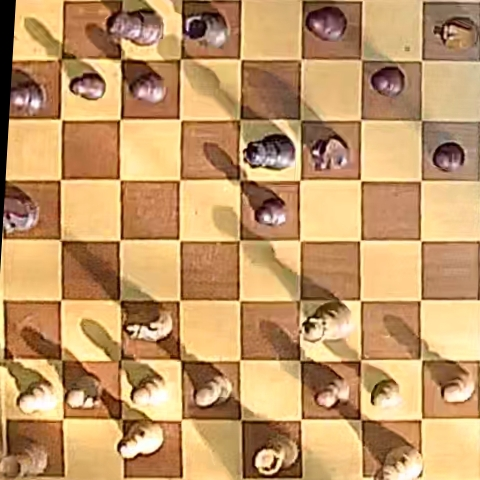black-bishop: (305, 6, 347, 41)
black-king: (105, 9, 164, 46)
black-knight: (4, 192, 39, 234), (309, 135, 348, 170)
black-pawn: (129, 72, 167, 103), (11, 82, 46, 114), (370, 66, 405, 97), (69, 71, 106, 100), (432, 142, 465, 172), (255, 197, 287, 227)
black-queen: (244, 134, 295, 169)
black-rook: (184, 11, 230, 48)
white-bishop: (118, 421, 163, 459)
white-king: (373, 445, 423, 480)
white-knight: (124, 307, 173, 343), (433, 17, 478, 50)
white-pawn: (192, 369, 232, 407), (435, 369, 474, 403), (18, 380, 57, 414), (66, 376, 103, 409), (130, 374, 167, 407), (315, 376, 351, 409), (371, 379, 402, 409)
white-queen: (303, 301, 353, 343)
white-rook: (254, 433, 298, 475), (1, 440, 48, 477)
